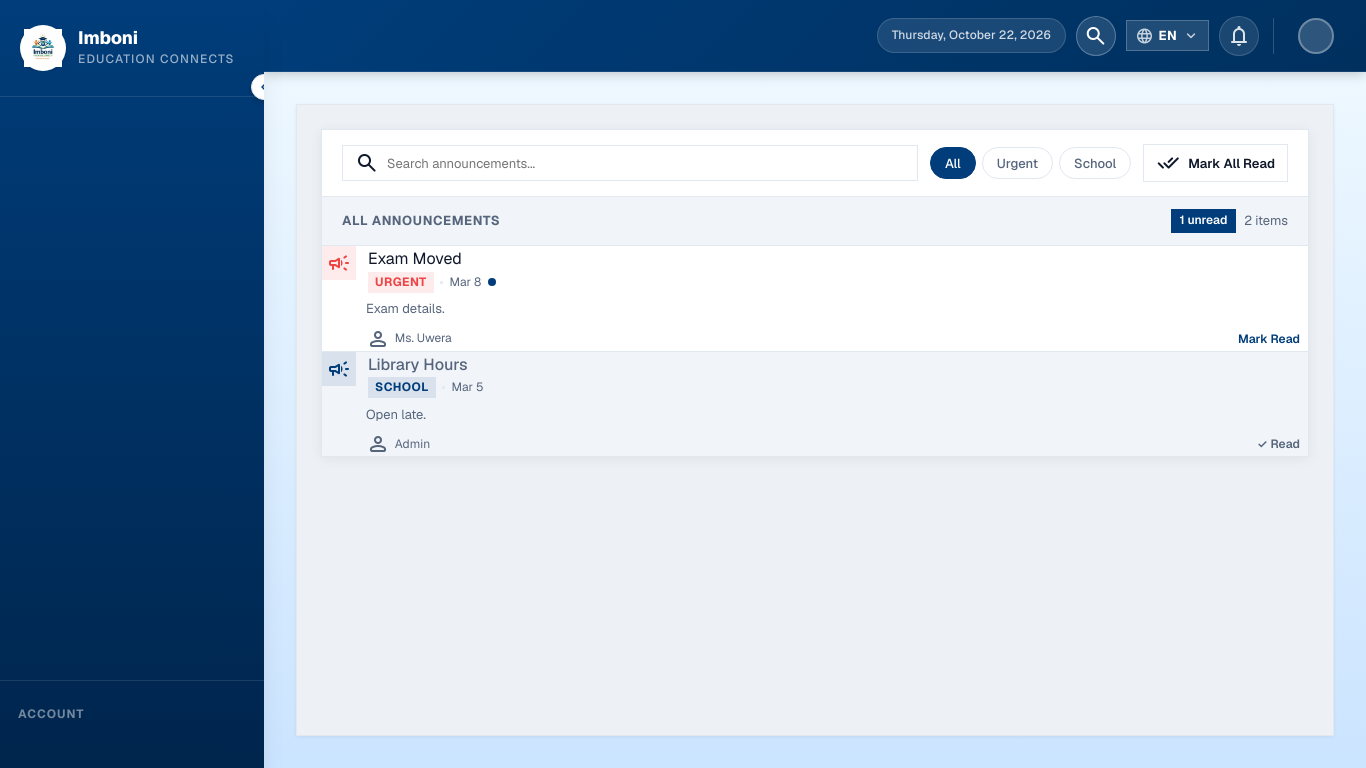
Test: AnnouncementFeed › shows the empty state with a clear-search action when search matches nothing
Type "nonexistent-xyz" into the field with placeholder "Search announcements..." at (646, 163), box [387,146,905,180]
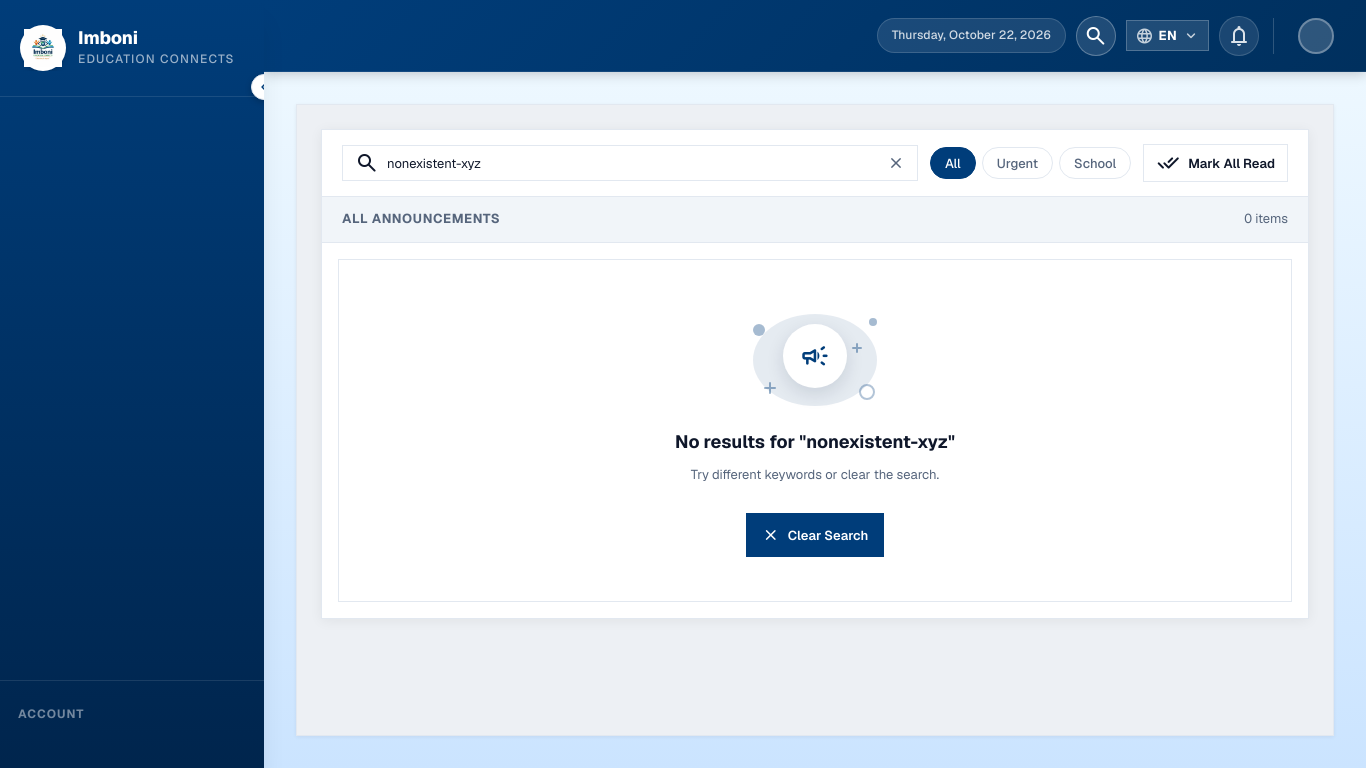
Expected: the text "No results for \"nonexistent-xyz\"" is shown, [675,428,955,457]
Click the button "Clear Search" at (815, 535), box [746,513,884,557]
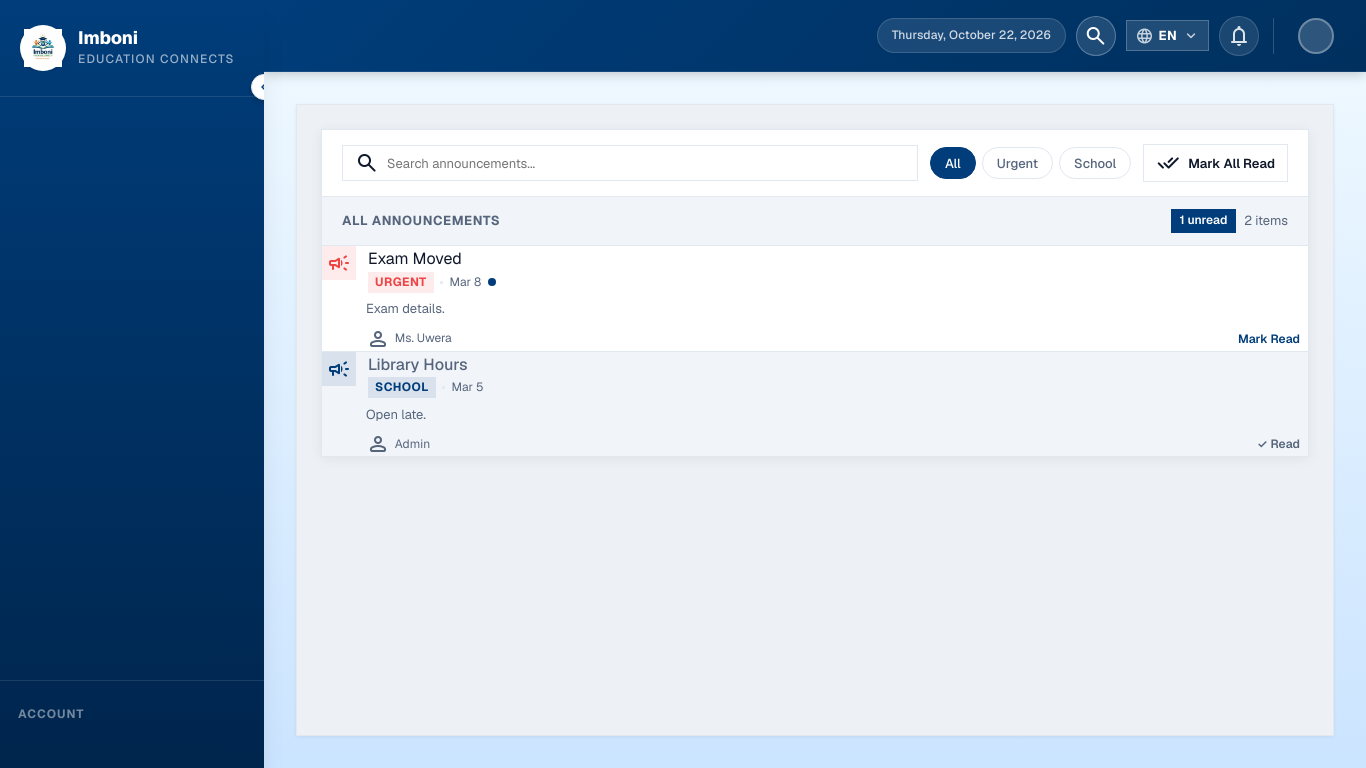
Expected: the text "Exam Moved" is shown, [368,248,462,269]
